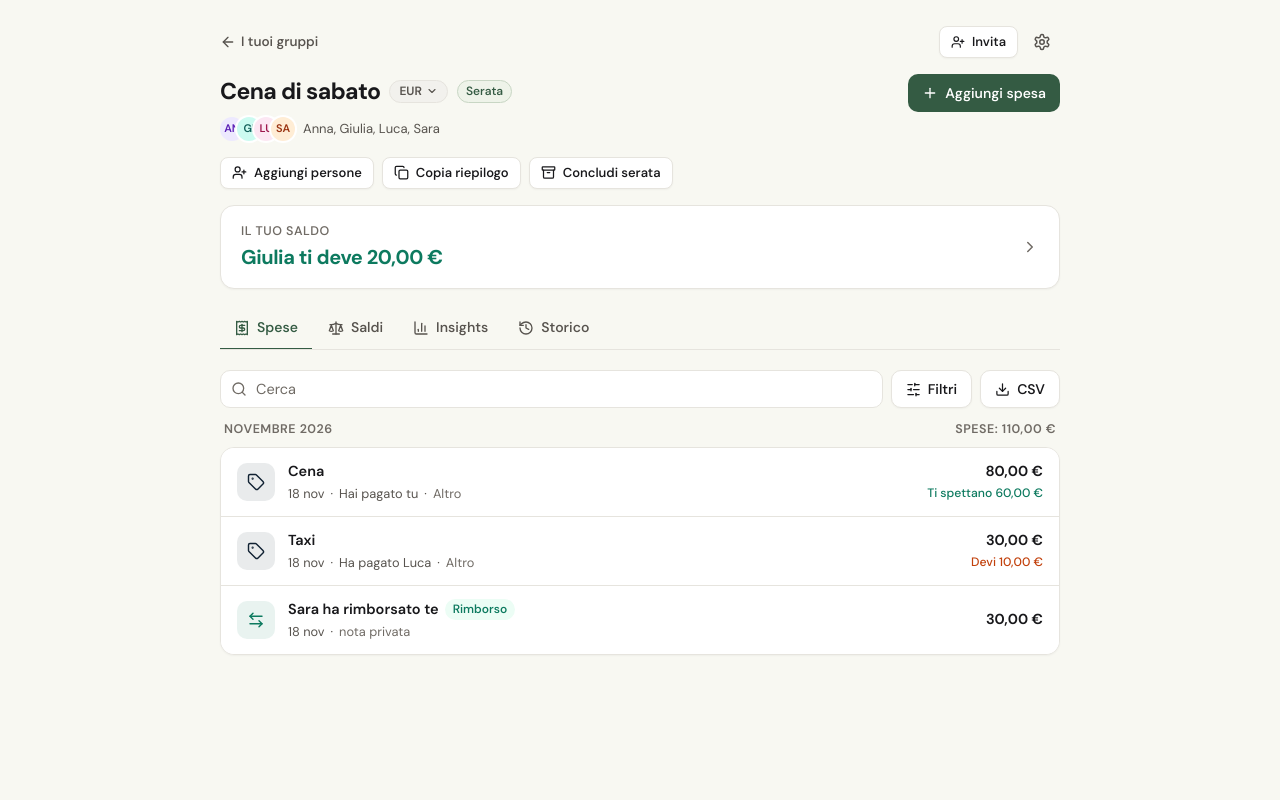
con più gruppi di coppia la scelta è esplicita, anche se l’importo è già noto
The image size is (1280, 800).
Click the button "Concludi serata" at (601, 172), box [529,156,673,188]
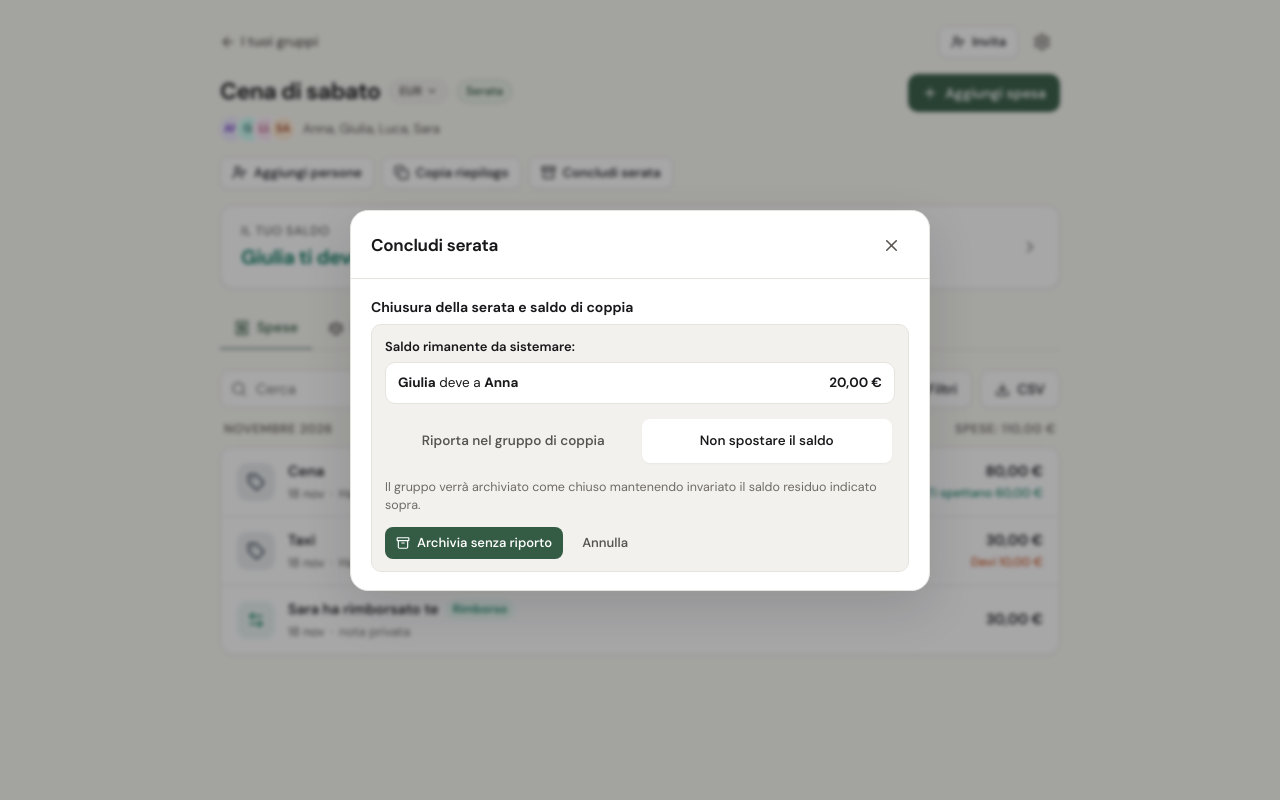
Click the button "Riporta nel gruppo di coppia" at (513, 441), box [388,419,638,463]
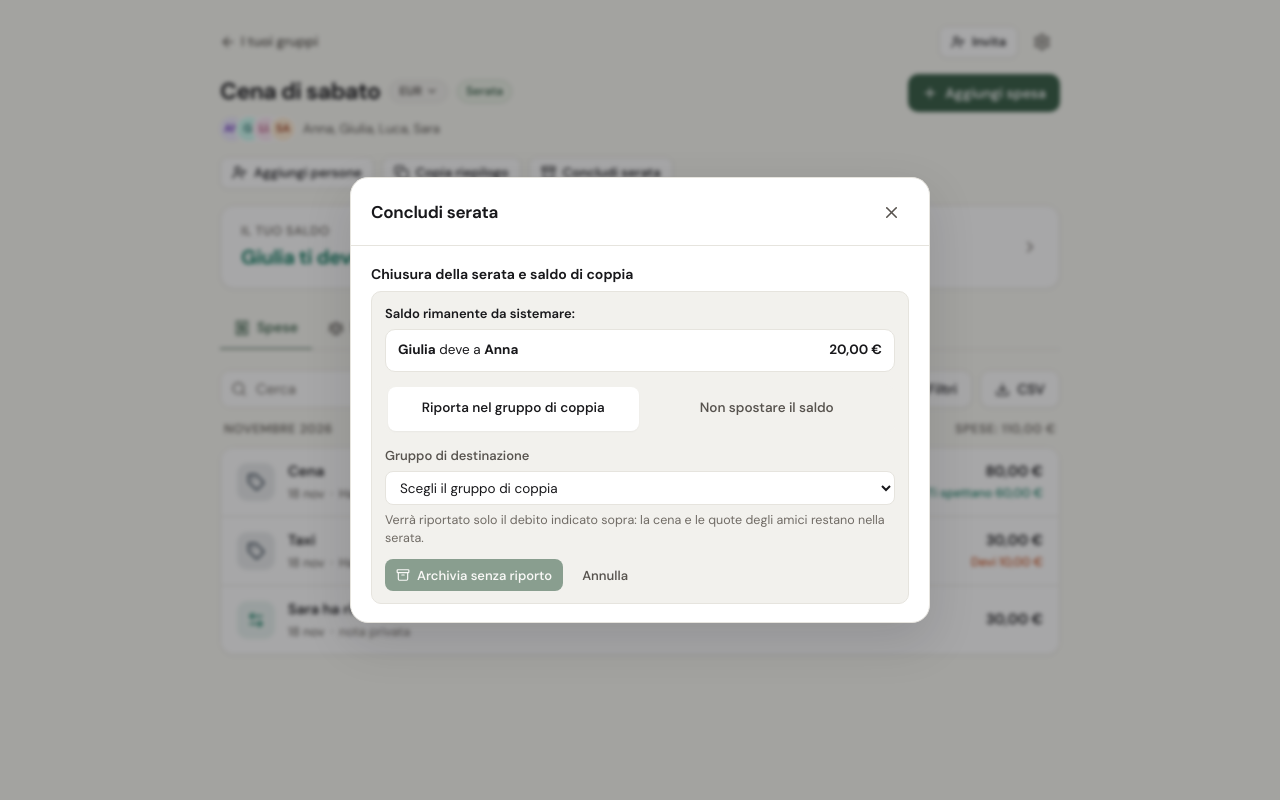
Now the dropdown labelled "Gruppo di destinazione" shows "Scegli il gruppo di coppia"
Select "Viaggi (EUR · Anna, Giulia)" in the dropdown labelled "Gruppo di destinazione" at (640, 488), box [385,471,895,505]
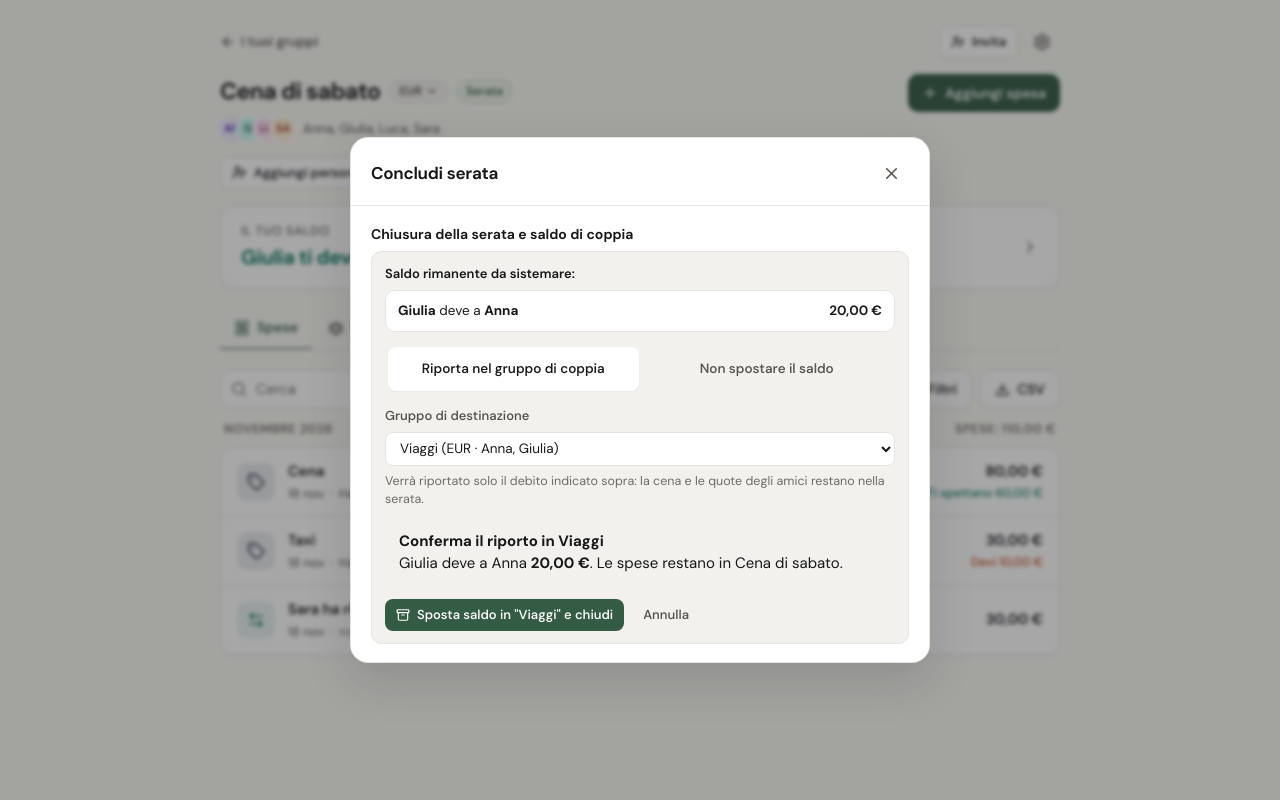
Now the text "Conferma il riporto in Viaggi" is shown, box [399,531,604,551]
Now the button "Sposta saldo in \"Viaggi\" e chiudi" is shown, box [385,599,624,631]
